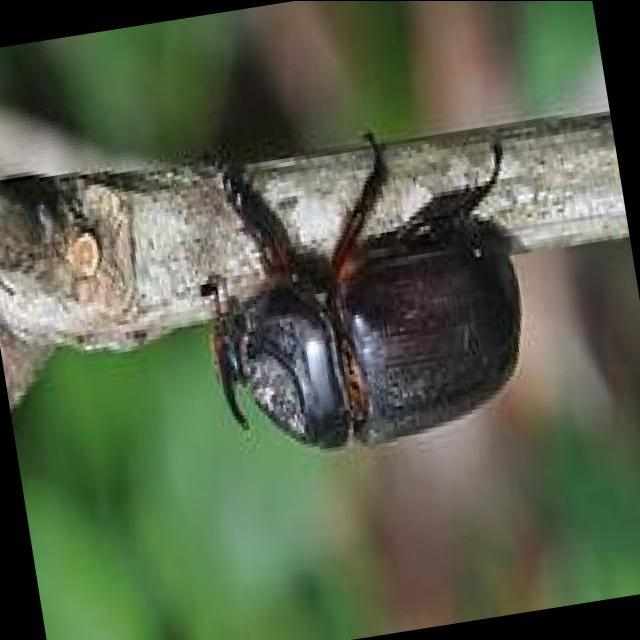Rhino-beetle: (175, 170, 540, 458)
